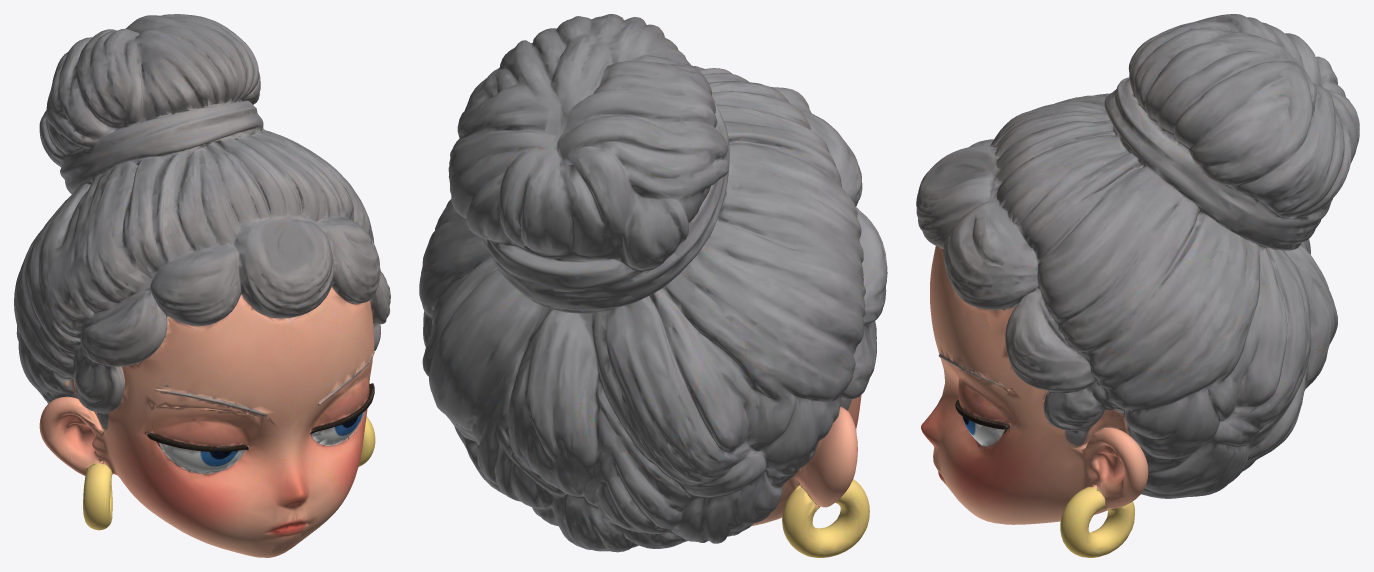
The model's file is avatar.glb.
3 views of the same model, side by side, from view 1: azimuth 30°, elevation 25°; view 2: azimuth 150°, elevation 25°; view 3: azimuth 270°, elevation 25° (orthographic). The views are drawn at different scales.
Size of the model in its own units: 1.41 by 1.9 by 1.55.
Materials: 1 (1 with a texture image).
